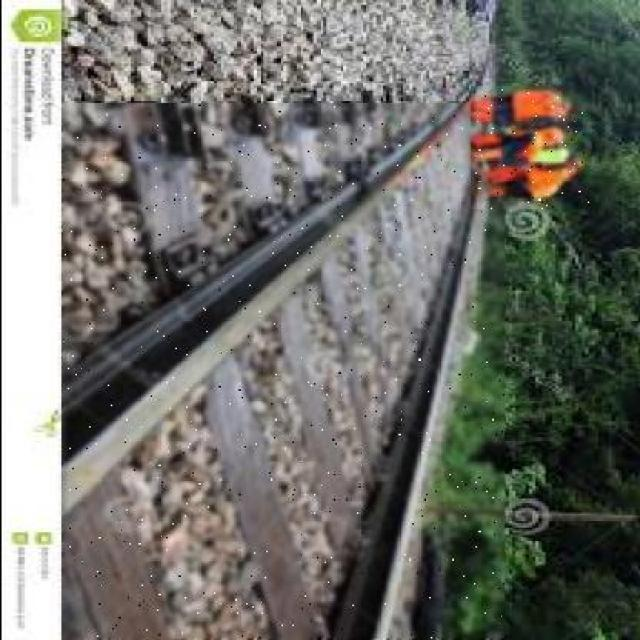danger: (469, 86, 589, 209)
rail: (62, 104, 502, 638)
